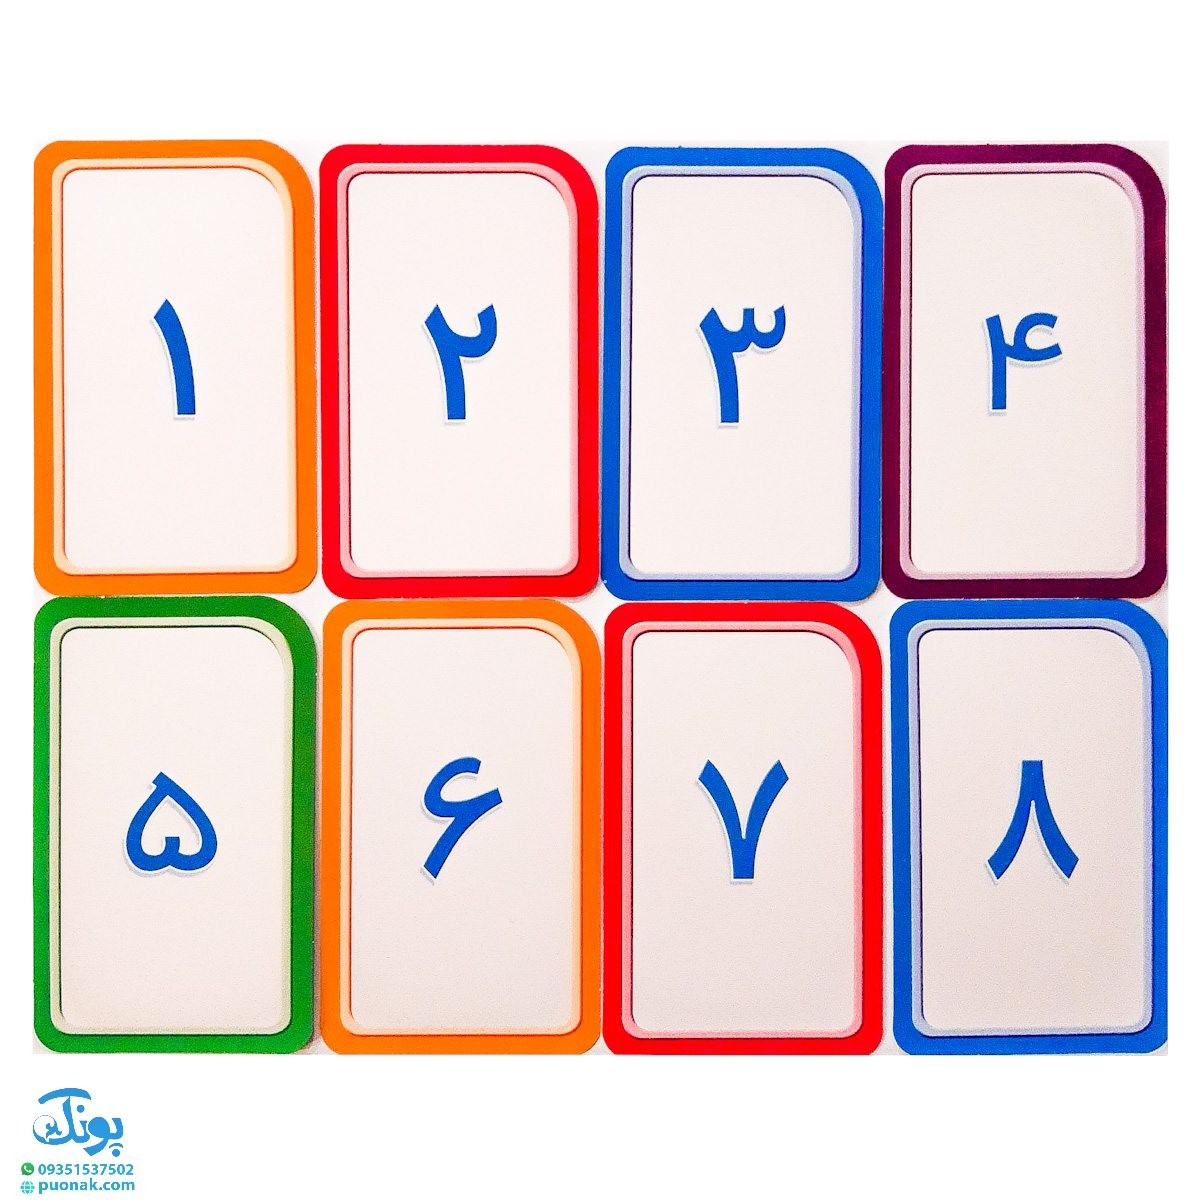character: (968, 726, 1104, 949), (107, 716, 243, 937), (668, 734, 814, 930), (679, 262, 803, 484), (959, 273, 1089, 474), (395, 716, 518, 926), (388, 291, 527, 465), (127, 270, 234, 486)
